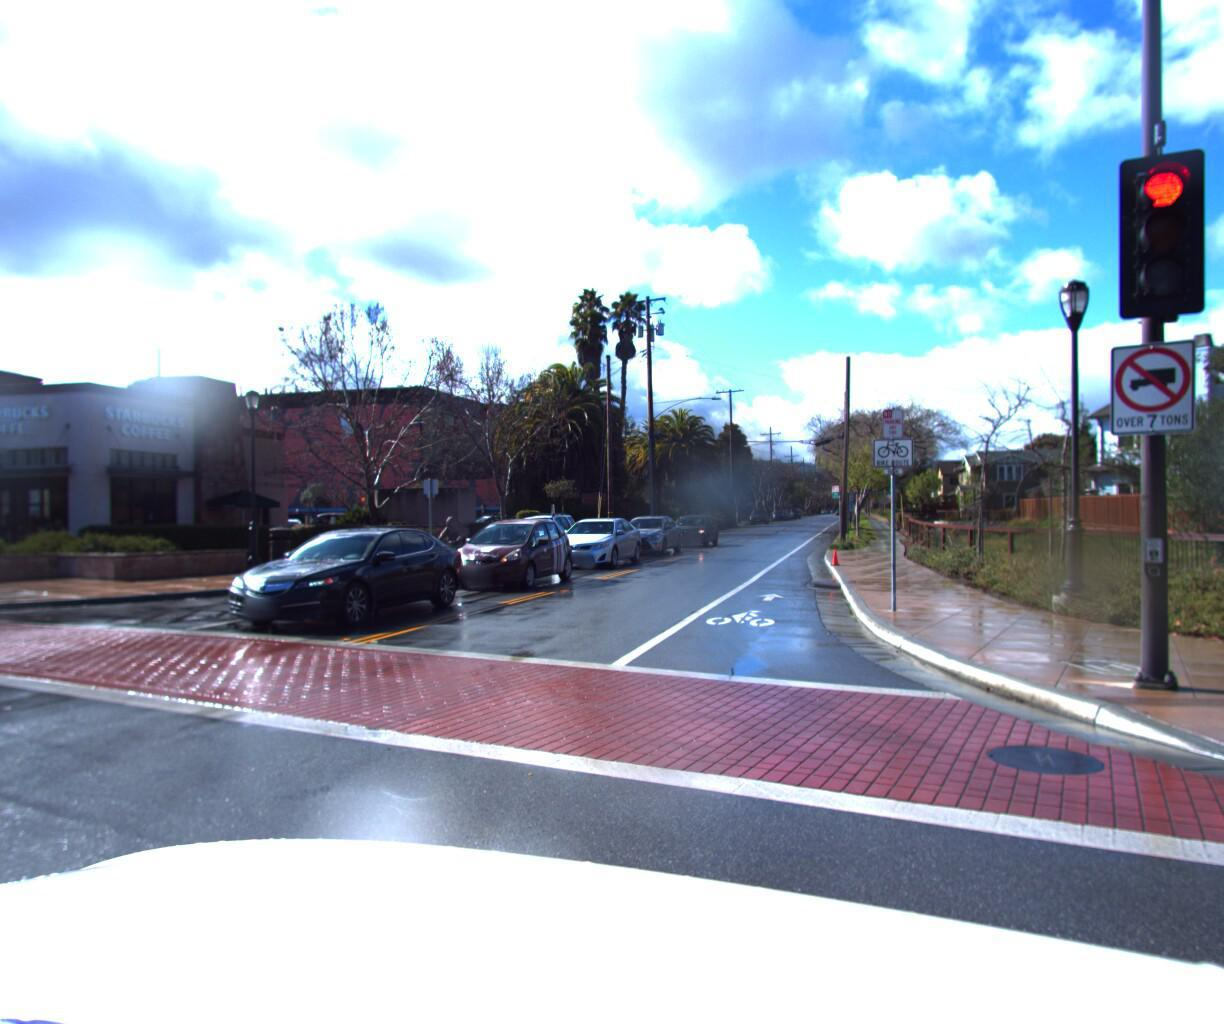bicycle: (415, 510, 471, 577)
car: (198, 524, 474, 643), (432, 513, 580, 595), (542, 513, 646, 571), (498, 511, 590, 563), (606, 510, 687, 555), (457, 507, 546, 539), (664, 515, 721, 550)
